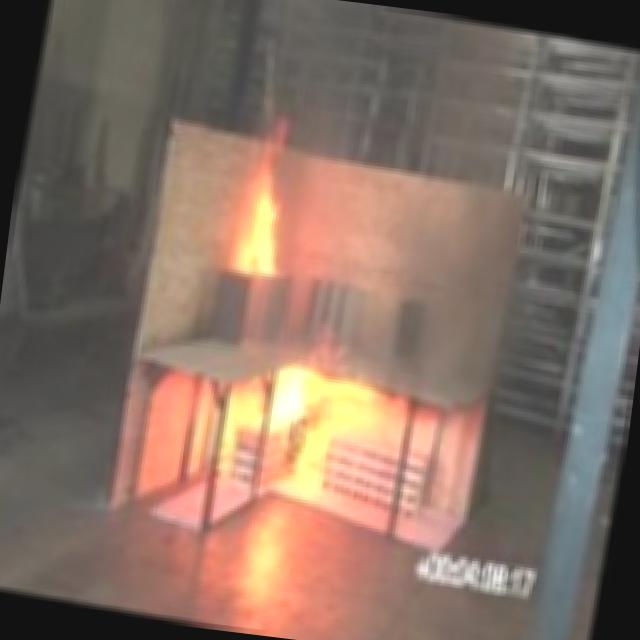fire: (216, 322, 395, 506), (192, 102, 342, 308)
